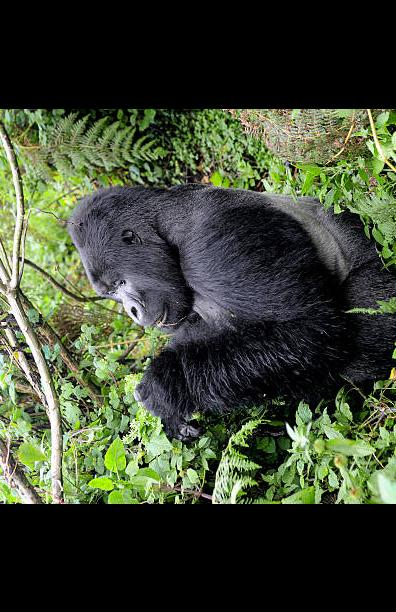goriile_montagne: (78, 163, 394, 426)
